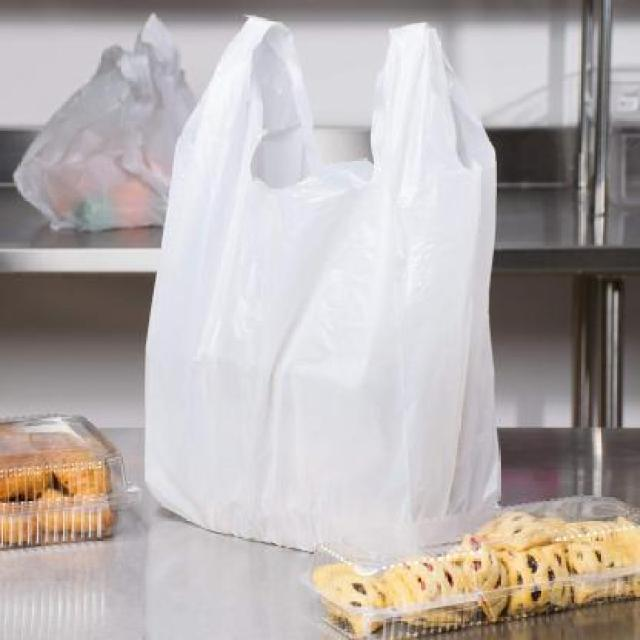plastic bag: (138, 31, 502, 555), (15, 11, 201, 226)
